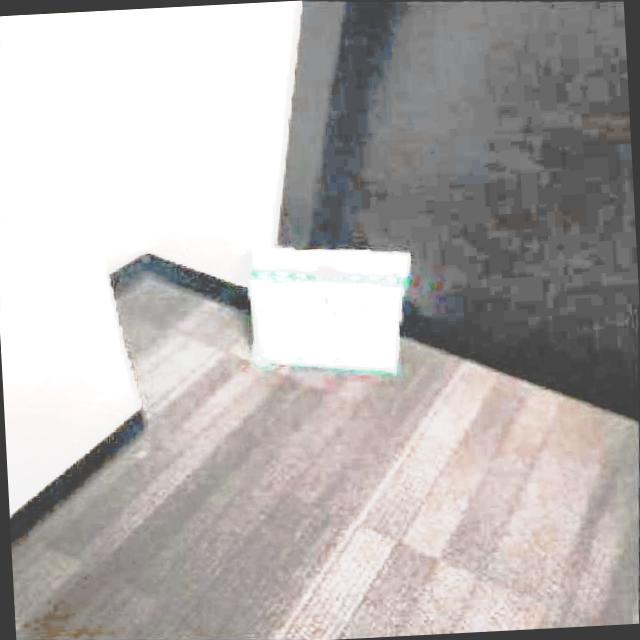Box: (378, 252, 489, 336), (224, 308, 339, 379), (247, 246, 349, 325), (0, 322, 70, 426), (0, 201, 62, 273), (0, 271, 49, 341)
